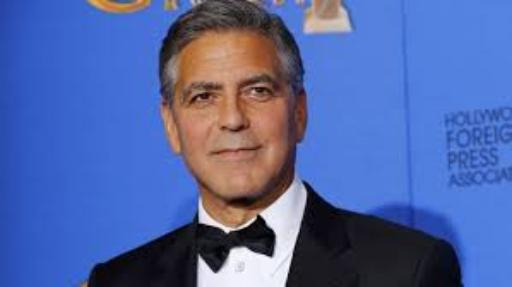left_eye: (244, 87, 279, 101)
left_lip_corner: (251, 146, 268, 156)
right_eye: (190, 93, 221, 106)
right_lip_corner: (207, 150, 223, 160)
